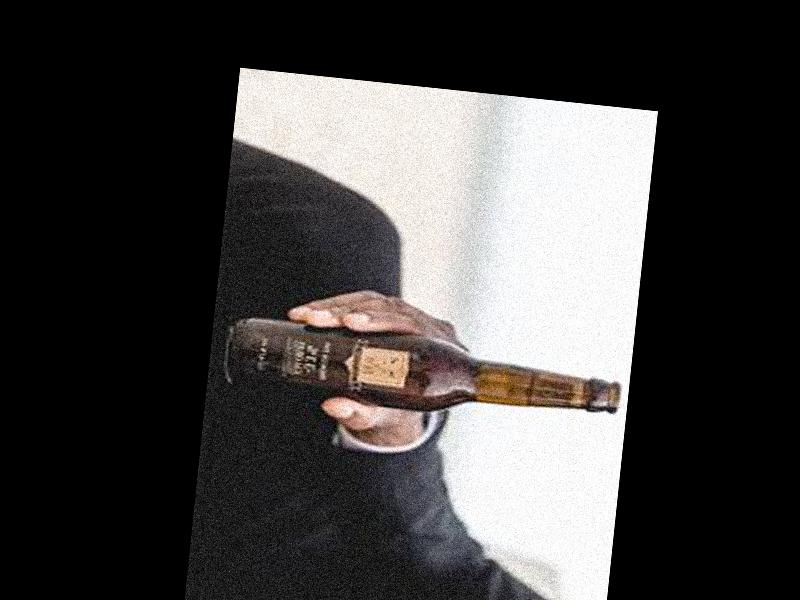Beer: (221, 314, 624, 429)
